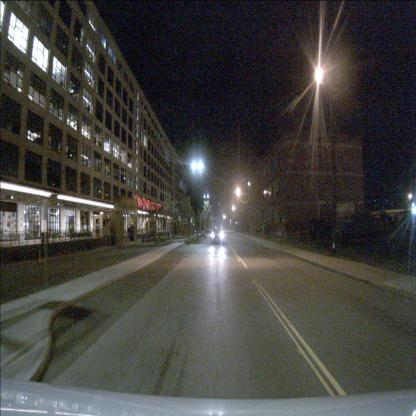human-pedestrian-adult: (110, 222, 114, 238), (130, 226, 133, 241), (128, 228, 130, 237)
movable_object-trafficcone: (37, 248, 43, 263)
vehicle-car: (211, 225, 223, 244)
